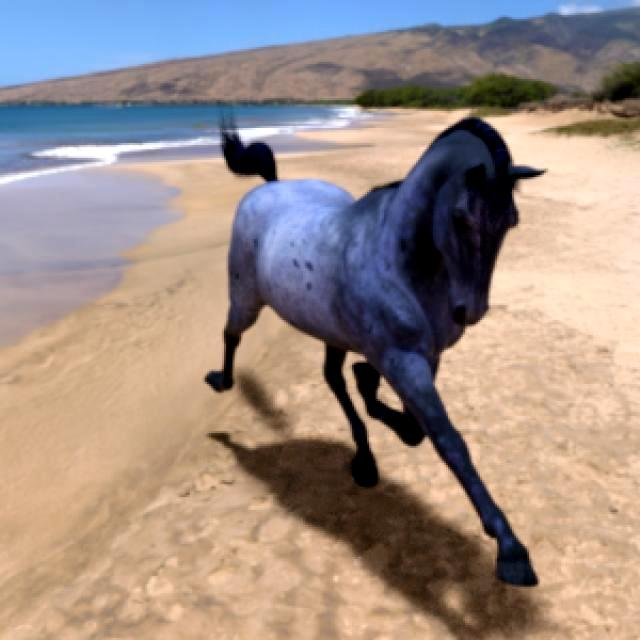horse: (206, 118, 541, 584)
